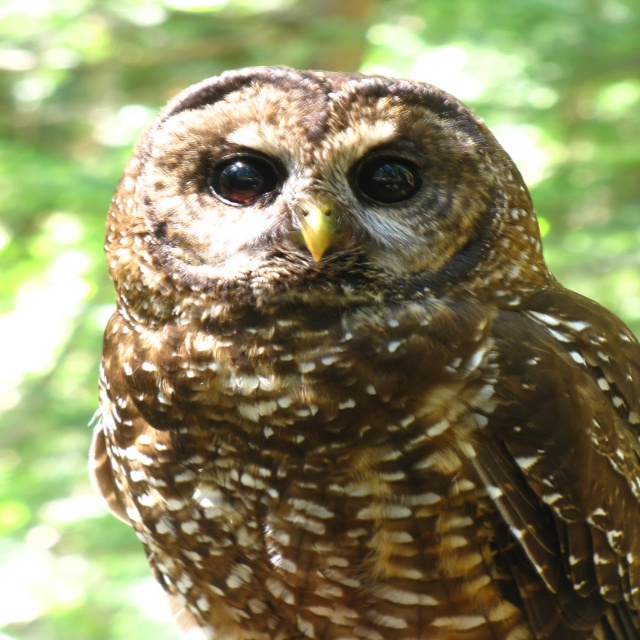Owl: (88, 63, 639, 640)
